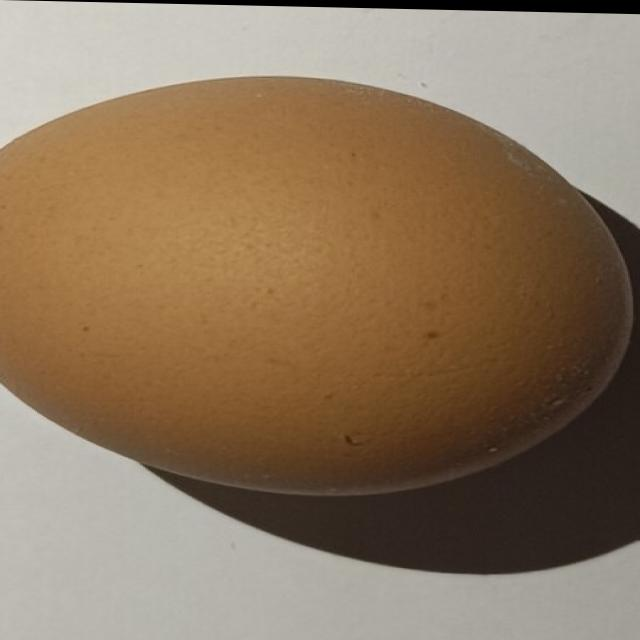fresh: (0, 63, 635, 492)
